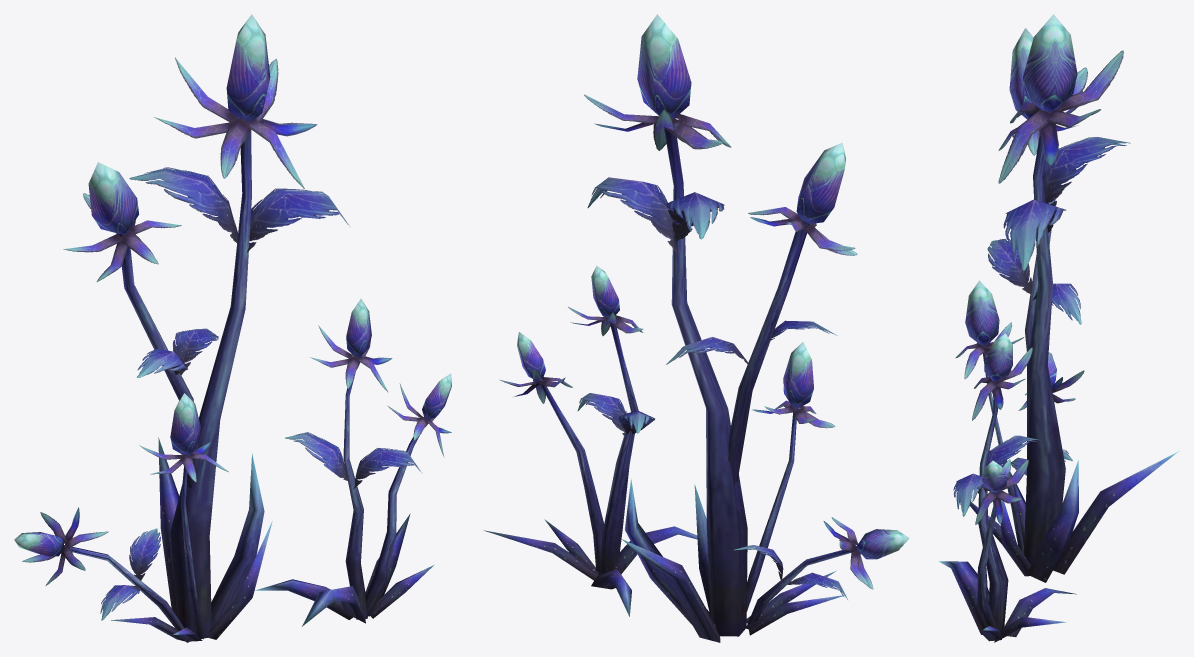
Rendered from langyhg_zw_hua_01.FBX.
The picture shows the model from 3 angles, left to right: view 1: azimuth 30°, elevation 25°; view 2: azimuth 150°, elevation 25°; view 3: azimuth 270°, elevation 25°; orthographic projection. The views are drawn at different scales.
Parts seen in each view (by area): view 1: langyhg_zw_hua_01; view 2: langyhg_zw_hua_01; view 3: langyhg_zw_hua_01.
Part boxes in pixels (x1,y1,x2,y2): langyhg_zw_hua_01: [14, 14, 451, 642]; langyhg_zw_hua_01: [483, 14, 909, 642]; langyhg_zw_hua_01: [939, 14, 1178, 642].
Size of the model in its own units: 144 by 198 by 73.8.
